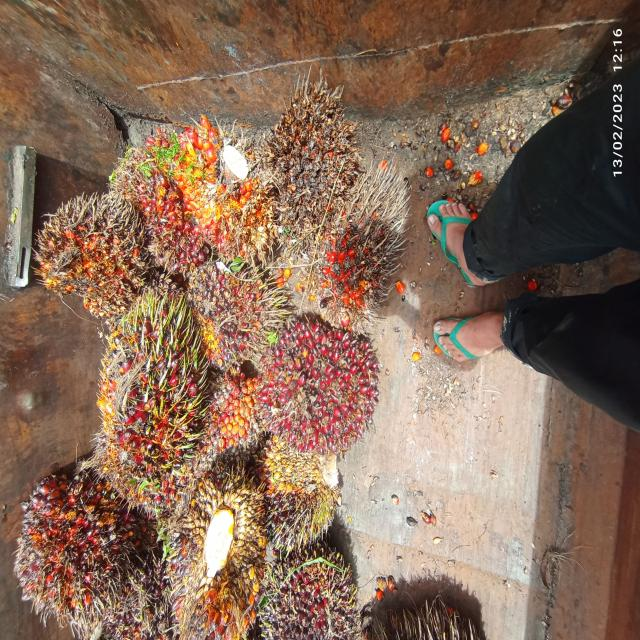fraksi 00: (249, 418, 354, 584)
fraksi 1: (75, 283, 224, 497), (254, 533, 368, 640), (190, 242, 273, 374)
fraksi 3: (263, 304, 383, 464), (125, 157, 204, 281), (198, 363, 270, 467)
fraksi 4: (150, 100, 296, 263), (18, 459, 136, 628), (22, 185, 160, 327), (307, 176, 413, 326)
